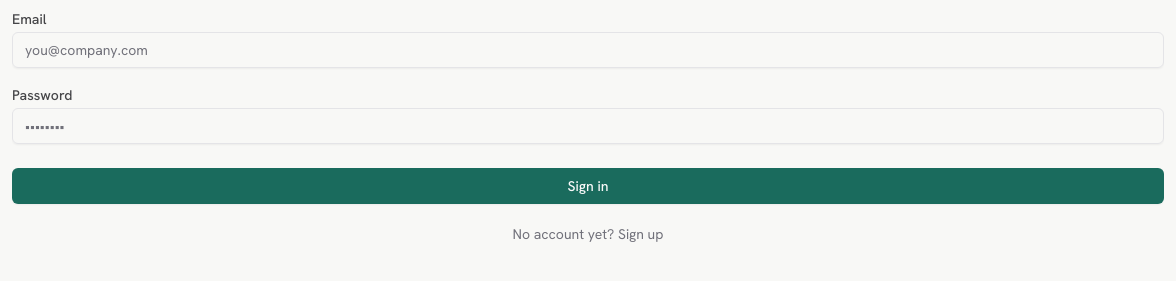
Test case: LoginForm validation › shows error for invalid email
Type "not-an-email" into the field labelled "Email".
click(588, 50); type("not-an-email")  # box x1=12 y1=32 x2=1164 y2=68
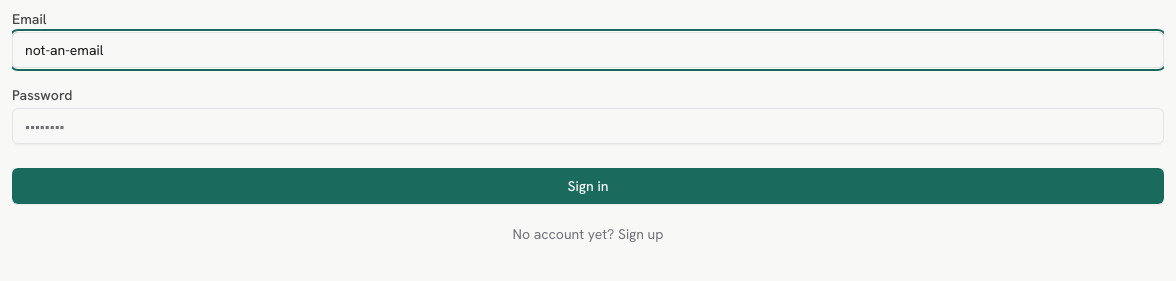
Type "secret123" into the password field labelled "Password".
click(588, 126); type("secret123")  # box x1=12 y1=108 x2=1164 y2=144
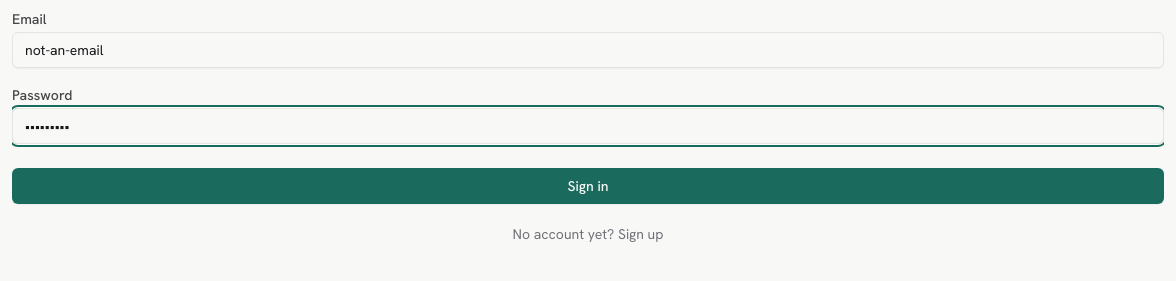
Click the button "Sign in".
click(588, 186)  # box x1=12 y1=168 x2=1164 y2=204
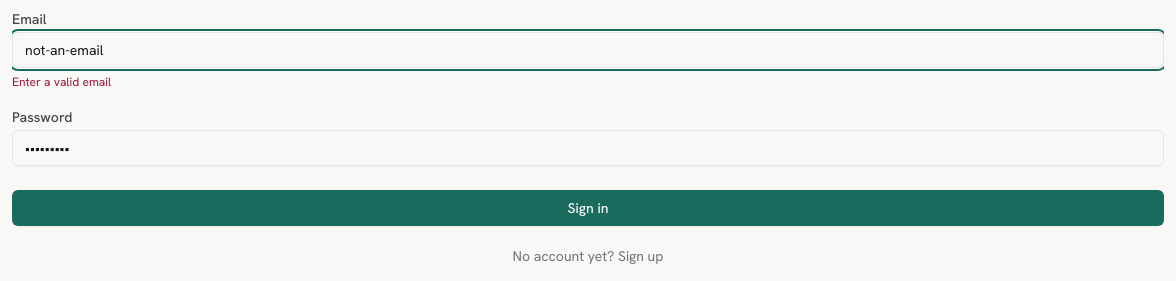
Expected: the text "Enter a valid email" is shown, x1=12 y1=74 x2=111 y2=90
